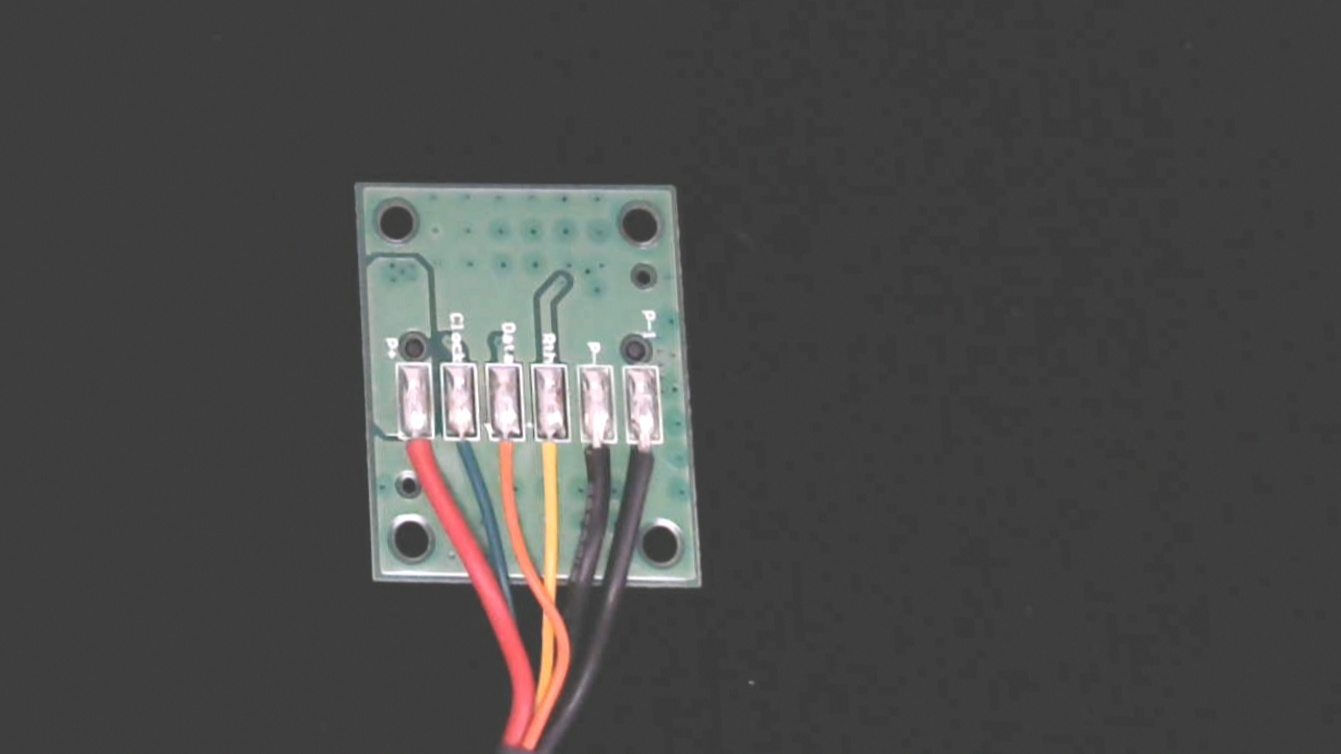Black: (578, 428, 622, 512)
Black1: (627, 427, 668, 506)
Green: (443, 419, 484, 492)
Orange: (488, 422, 528, 508)
Red: (396, 419, 439, 492)
Yellow: (529, 425, 577, 508)
